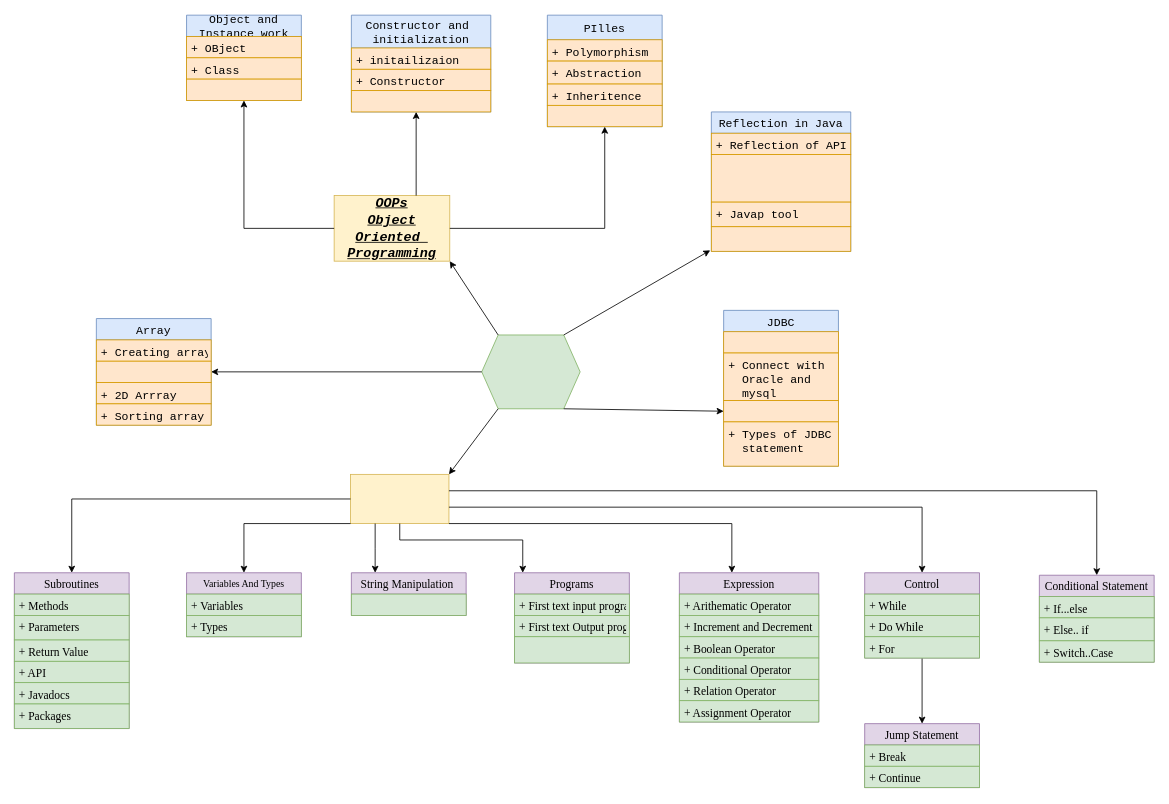
The diagram is 1169 pixels wide and 804 high, and some of its shapes have lost their labels. Each missing label, with the centre of its shape:
+ 1D Array: point 153,371
+ Create applet: point 781,238
+ DriverManager: point 780,411
+ Encapsulation: point 604,116
+ Garbage collector: point 421,101
+ Instance: point 243,89
+ JDBC Driver: point 780,342
+ NewInstancer and determining the class object.: point 781,178
+ String Operation: point 408,604
+ Text IO program: point 571,649
BASIC JAVA PROGRAMMING: point 399,499
JAVA: point 530,371
